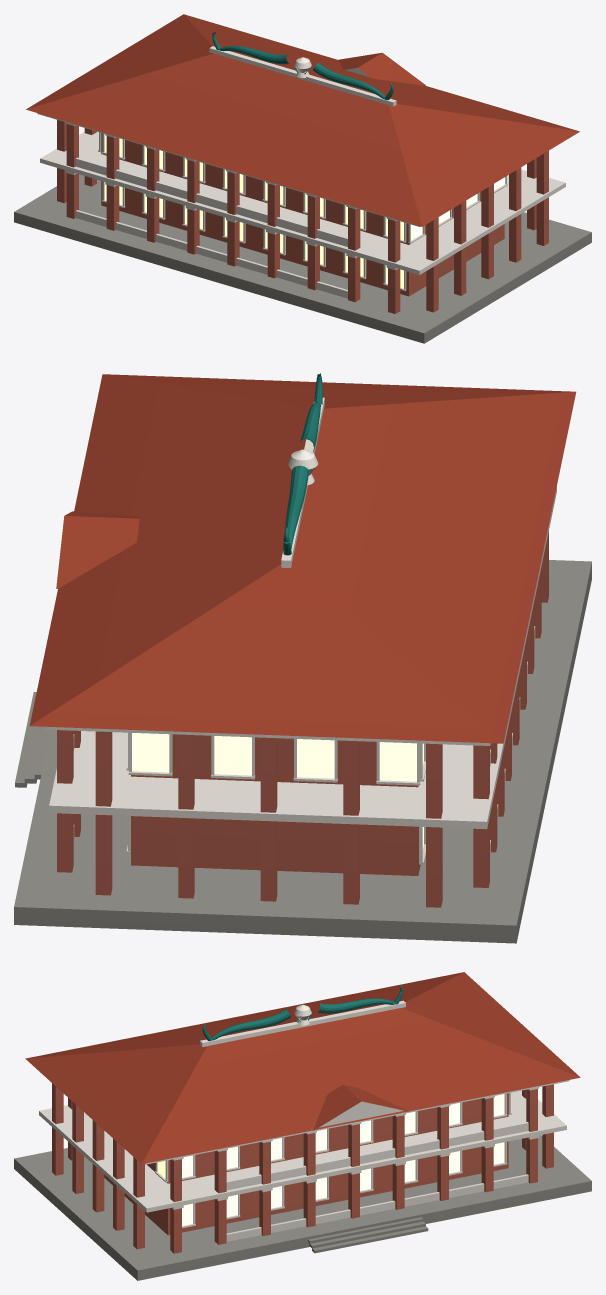
The model's file is ben_nha_rong.glb.
3 views of the same model, one above another, from view 1: azimuth 30°, elevation 25°; view 2: azimuth 150°, elevation 25°; view 3: azimuth 270°, elevation 25° (orthographic). The views are drawn at different scales.
Parts seen in each view (by area): view 1: ben_nha_rong; view 2: ben_nha_rong; view 3: ben_nha_rong.
Boxes of the visible parts, x1,y1,x2,y2 form: ben_nha_rong: (14,14,591,343); ben_nha_rong: (14,373,591,943); ben_nha_rong: (14,972,591,1280).
Size of the model in its own units: 45.66 by 18.5 by 55.34.
